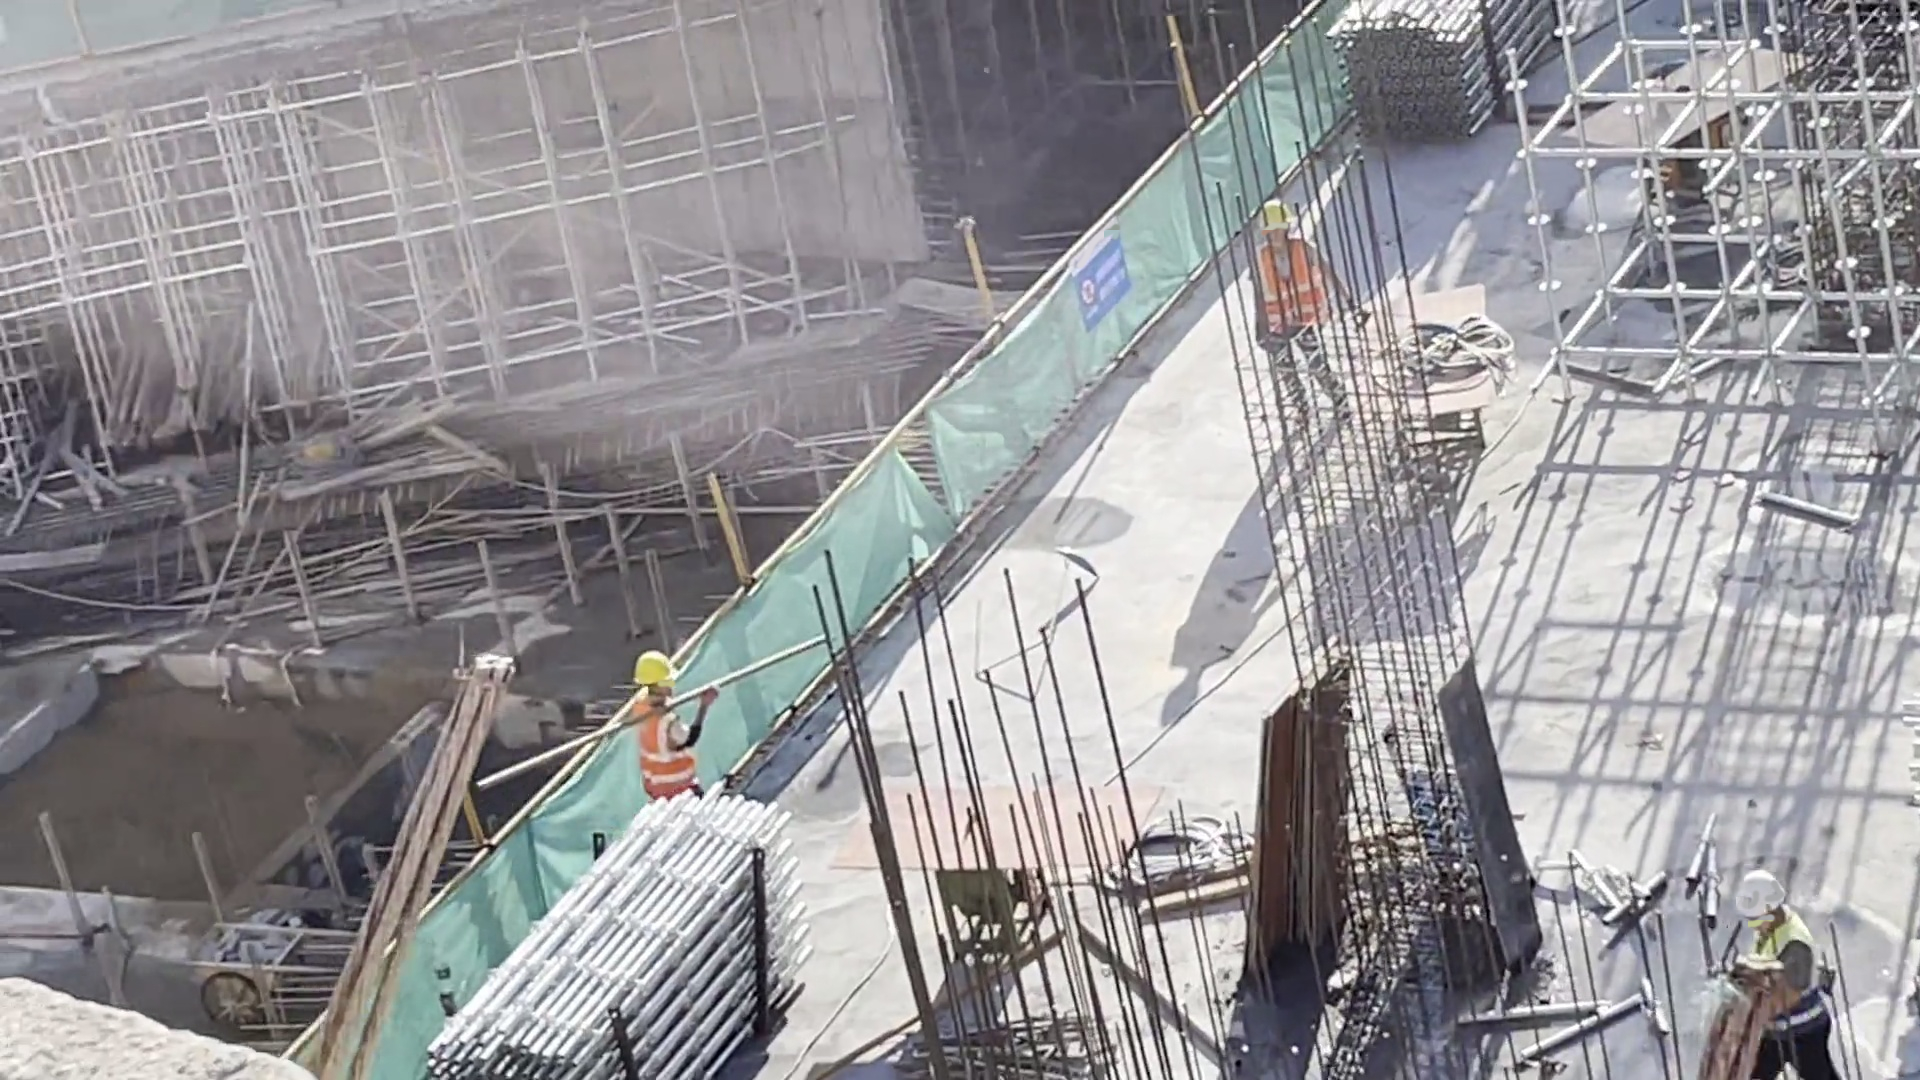cutter: (1615, 51, 1770, 252), (870, 794, 1105, 924), (1392, 303, 1491, 453)
helmet: (628, 657, 684, 696), (1731, 872, 1788, 908), (1261, 195, 1296, 230)
person: (1240, 189, 1382, 432), (1717, 867, 1843, 1080), (619, 646, 717, 800)
scaffold: (488, 829, 789, 1080), (1348, 1, 1526, 130)
slogan: (1071, 243, 1123, 322)
vest: (1753, 919, 1831, 1026), (1255, 249, 1332, 333), (624, 711, 698, 794)
